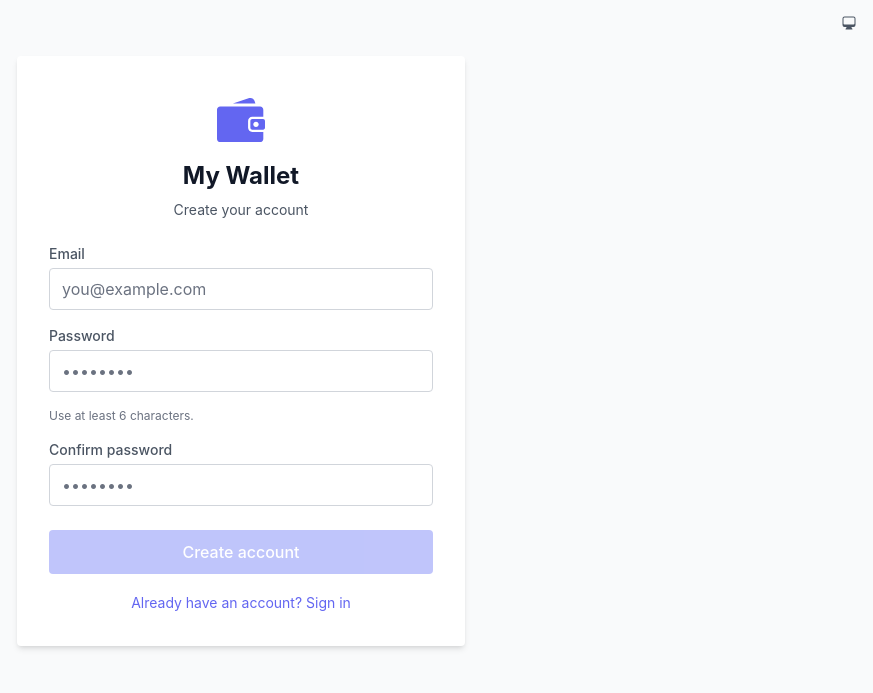
it: SignUp › shows an error when the address is already registered
The image size is (873, 693).
In the field labelled "Email": (241, 289) x1=49 y1=268 x2=433 y2=310, type "new@example.com"
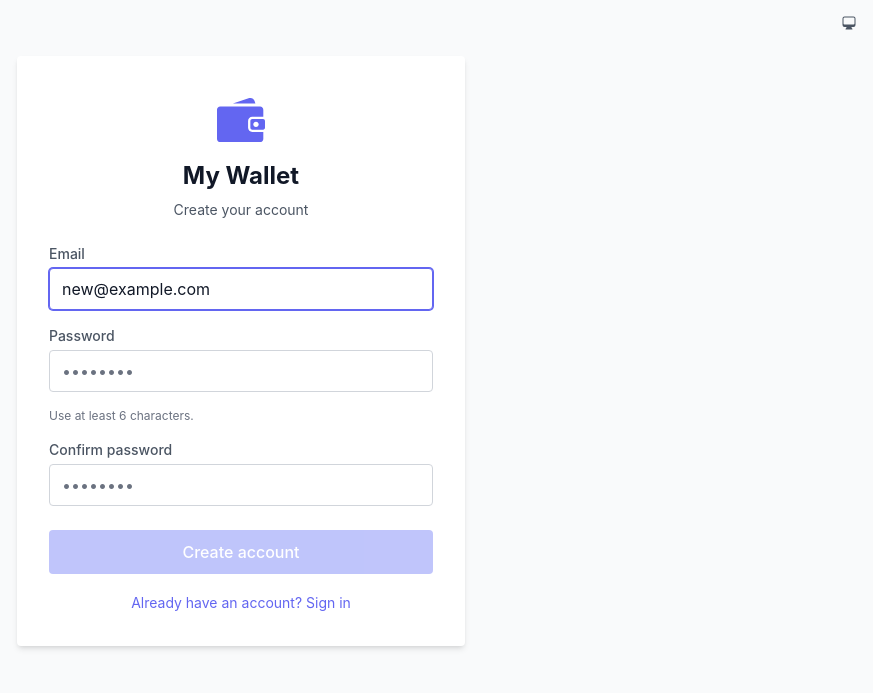
In the password field labelled "Password": (241, 371) x1=49 y1=350 x2=433 y2=392, type "password"
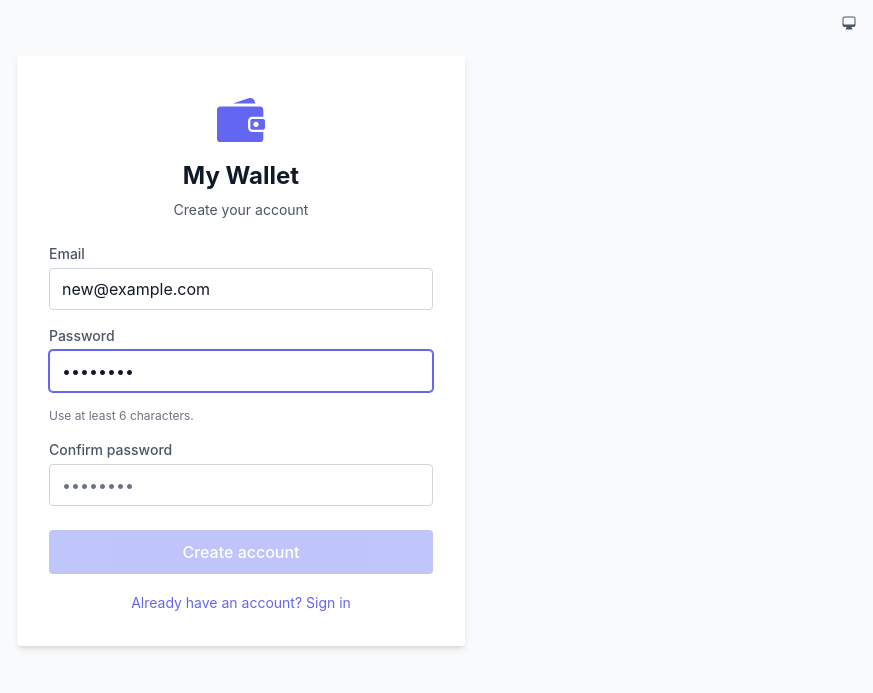
In the password field labelled "Confirm password": (241, 485) x1=49 y1=464 x2=433 y2=506, type "password"
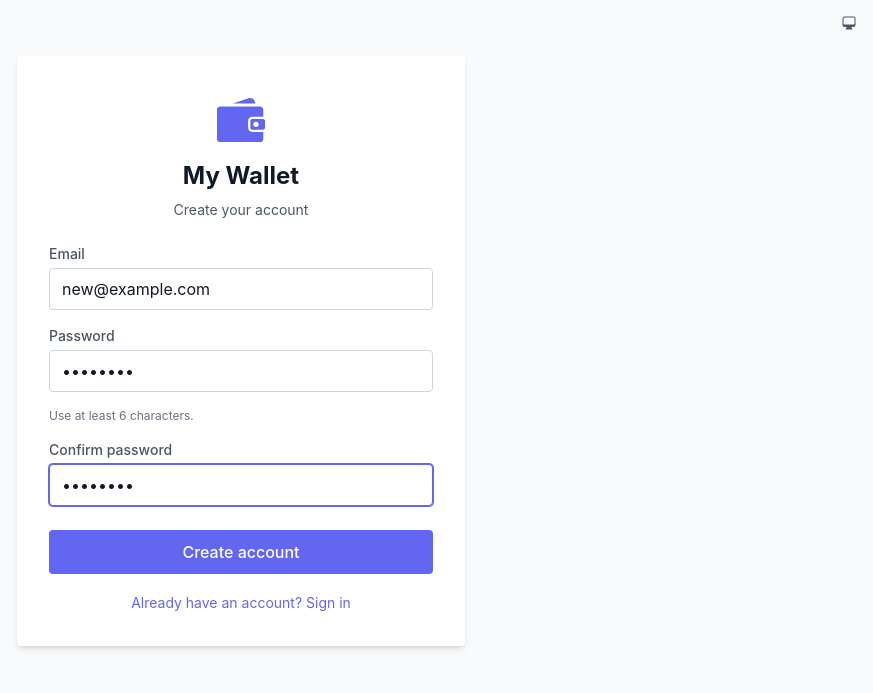
Click the button "Create account": (241, 552) x1=49 y1=530 x2=433 y2=574
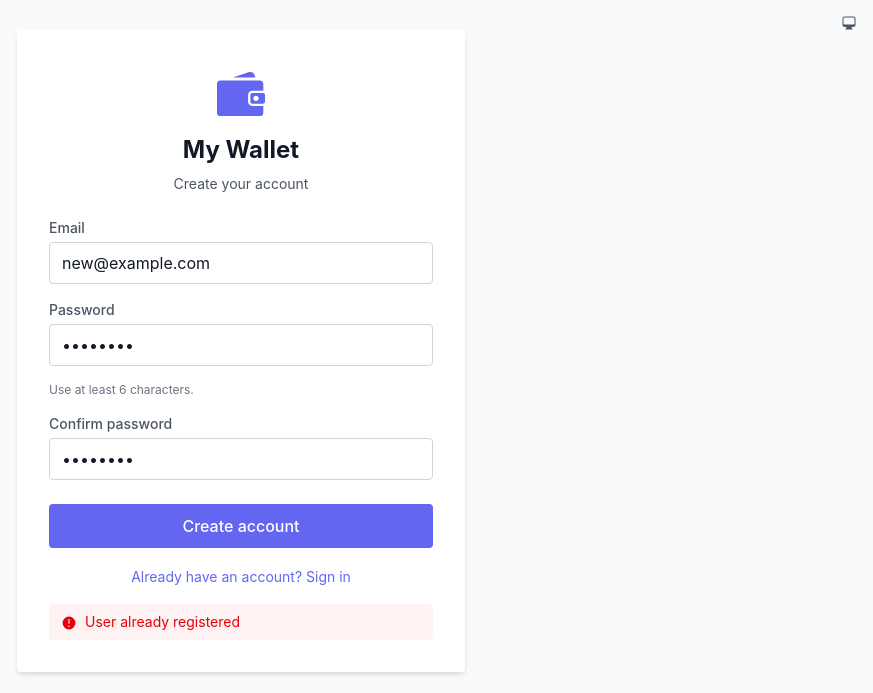
expect the text "User already registered" is shown: met, box x1=49 y1=604 x2=433 y2=640
